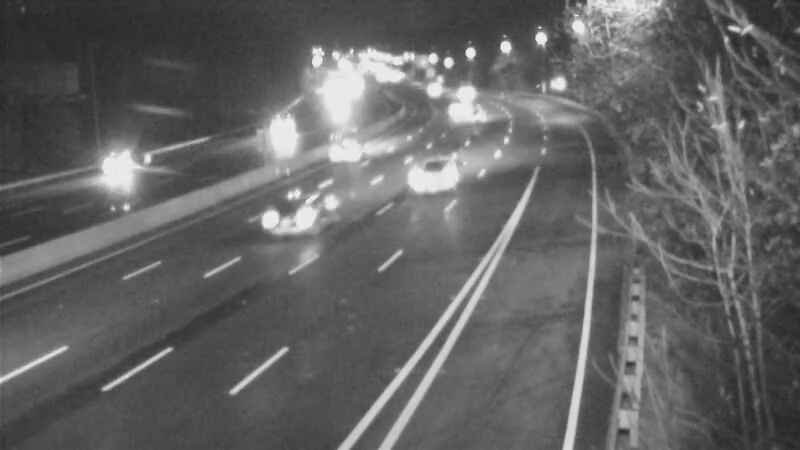vehicle: (307, 114, 387, 194), (402, 134, 482, 214), (247, 179, 327, 259), (82, 129, 162, 209), (437, 64, 487, 114), (407, 63, 457, 113), (427, 90, 477, 140), (445, 93, 495, 143), (267, 104, 317, 154)
